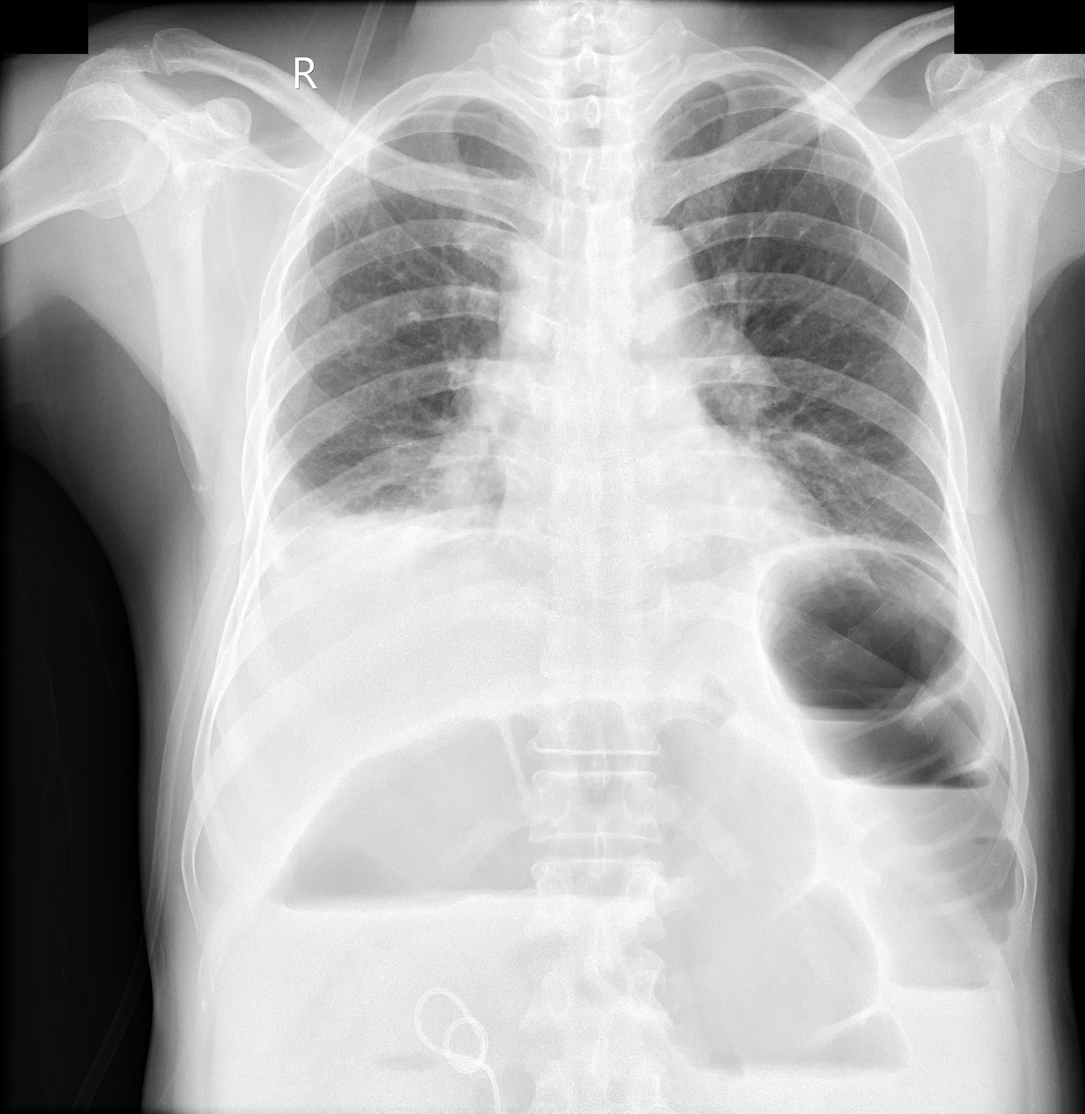Aortic enlargement: (589, 223, 708, 340)
Cardiomegaly: (488, 493, 858, 599)
Pleural thickening: (253, 498, 288, 595), (732, 68, 804, 98)
Pulmonary fibrosis: (407, 339, 450, 361)
